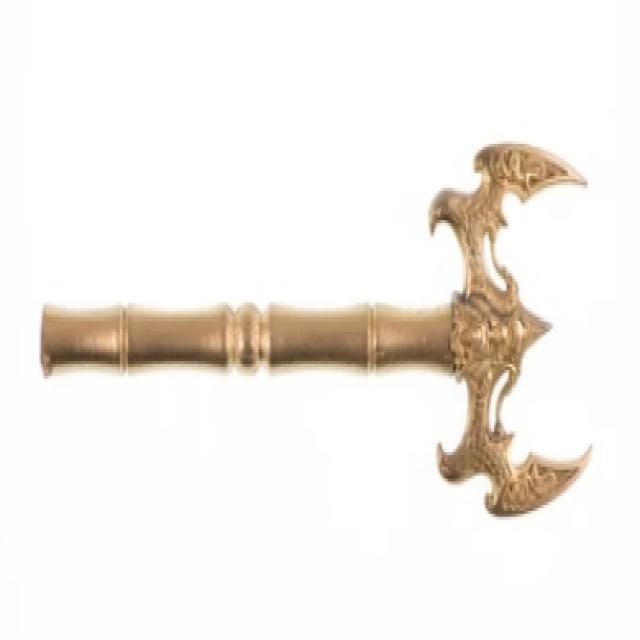spear: (21, 118, 604, 537)
